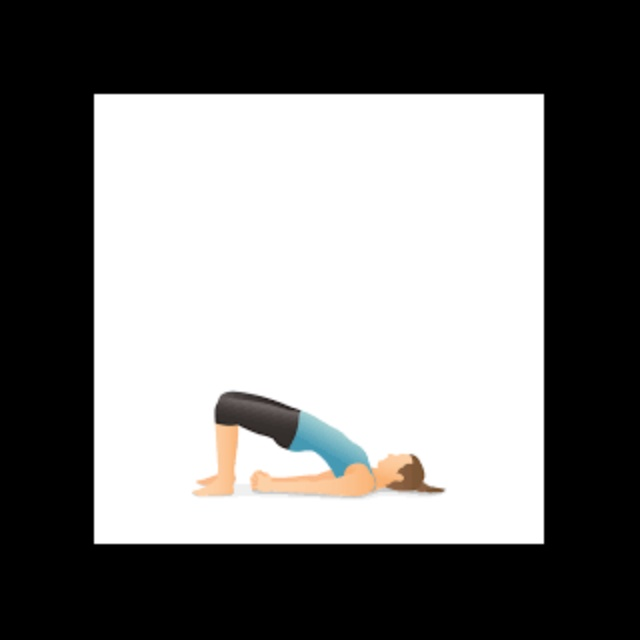Bridge_Pose: (188, 382, 448, 501)
